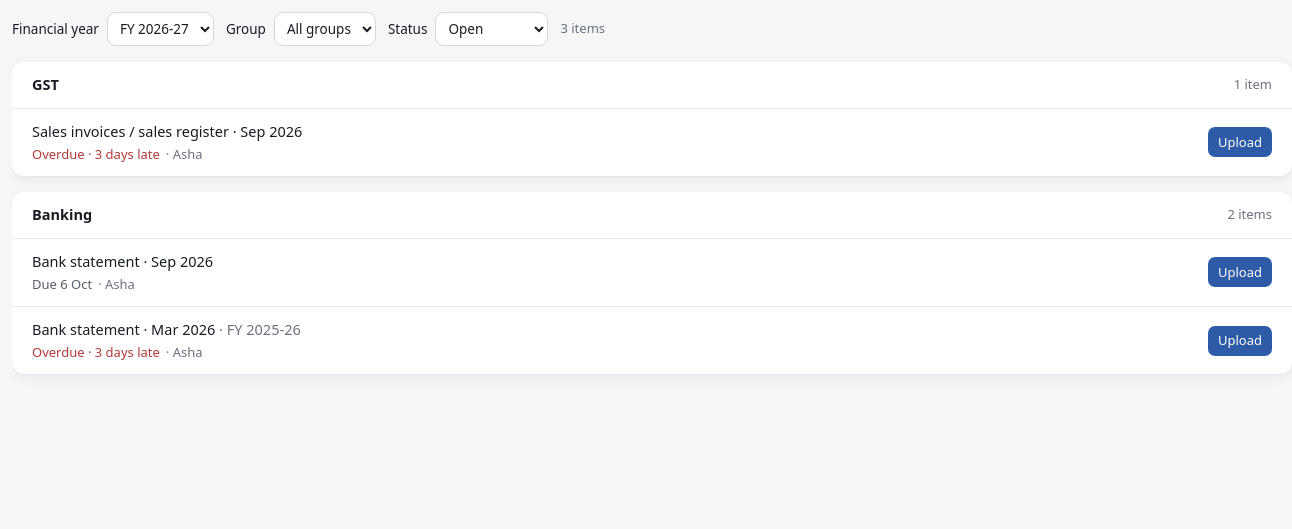
Scenario: ExpectedView (AC-13) › Limited: no Waive or Undo; archived client: no actions at all
This screenshot has width=1292, height=529.
Step 1. Select "All" in the dropdown labelled "Status" → point(492, 29), box [435,12,548,46]
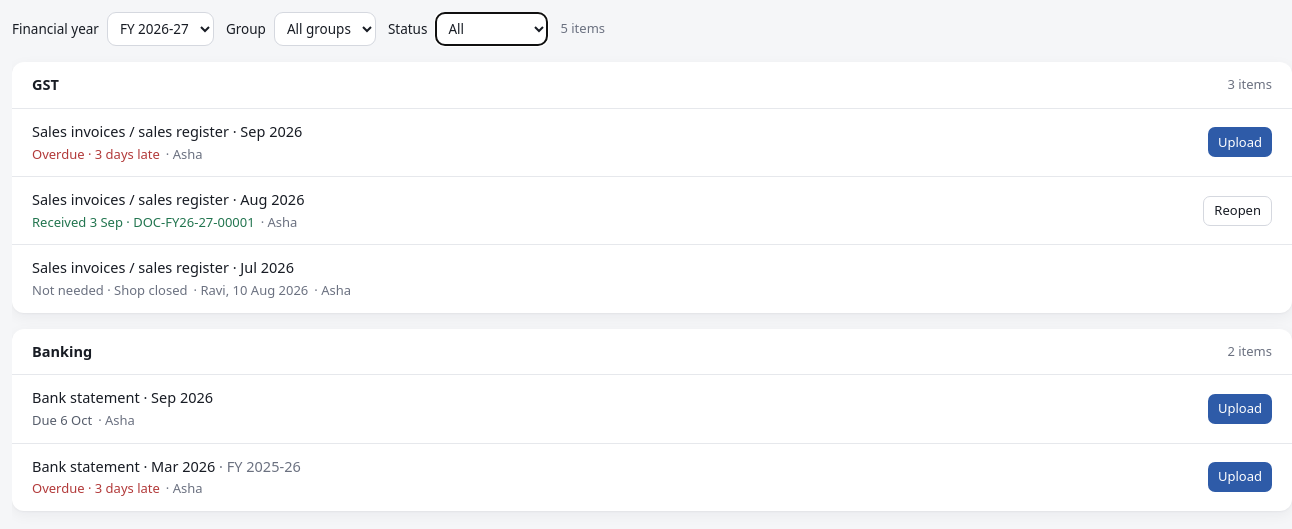
Expected: the 1st link "Upload" is shown, [1208,127,1272,157]
Result: the button "Reopen" is shown at [1203,196,1272,226]
